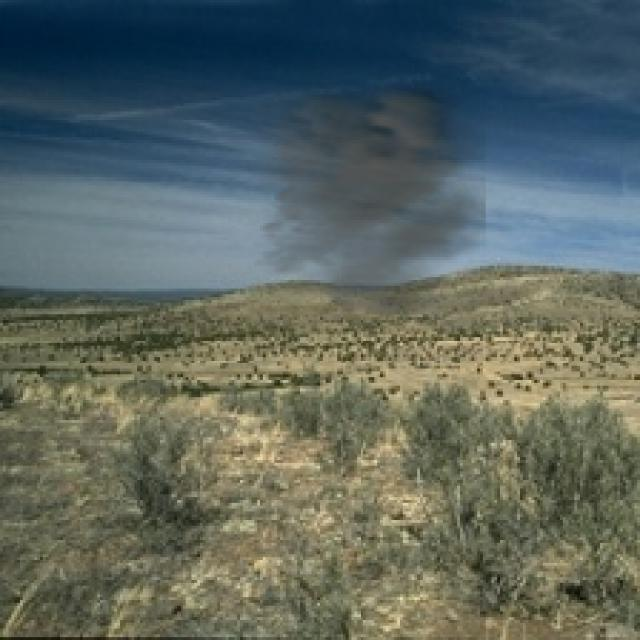smoke: (228, 72, 486, 314)
